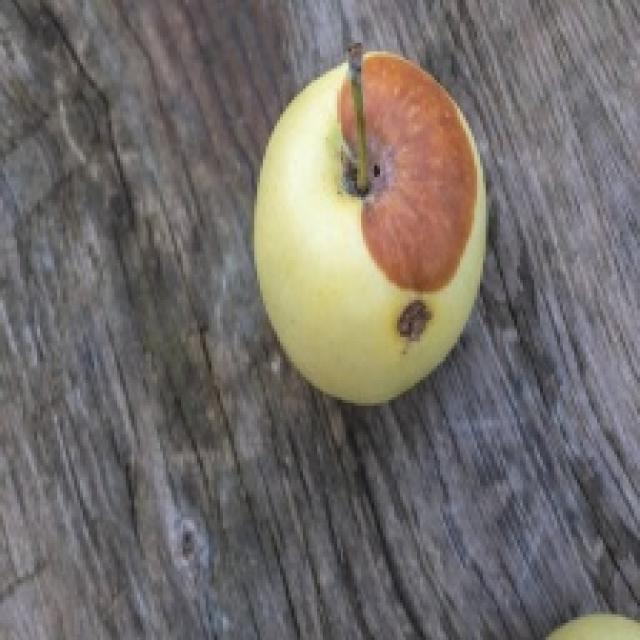rotten_apple: (260, 58, 485, 400)
